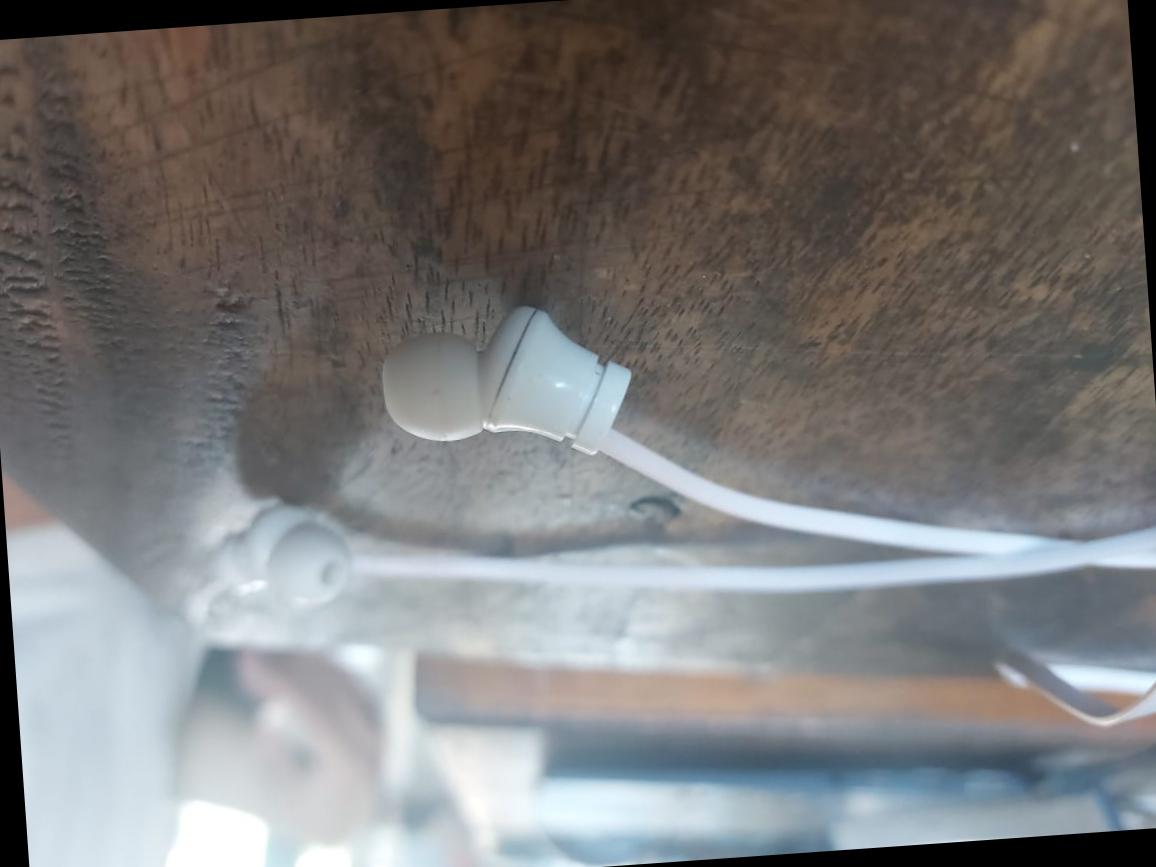Earphone: (366, 285, 647, 478), (195, 490, 347, 620)
